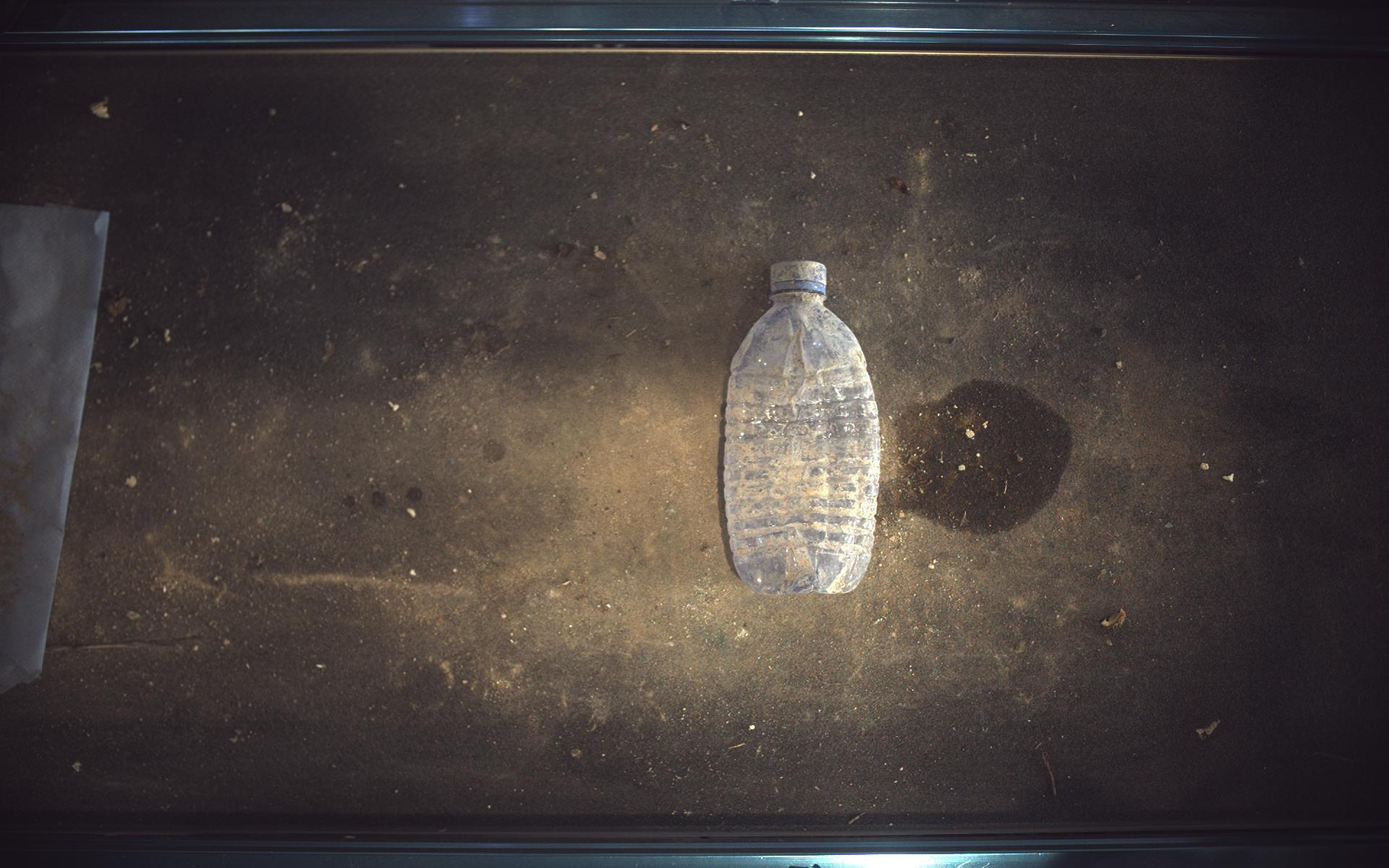general_w: (725, 260, 882, 595)
